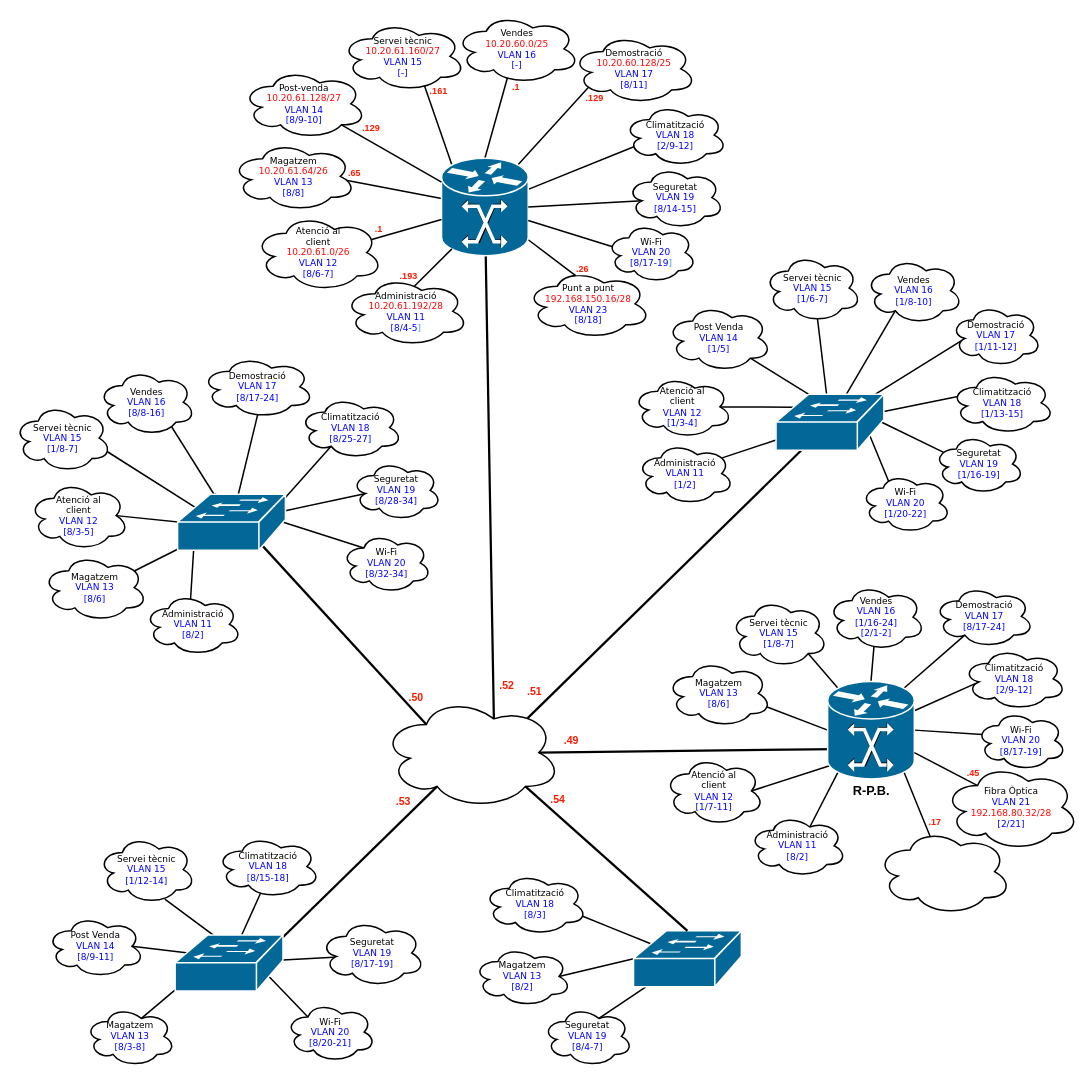
Image size: 1092x1080. Some labels were removed from this diagram. Each missing label, with the centre of its shape:
GESTIÓ VLAN 10 192.168.50.48/27: the point at 471,752
Internet VLAN 22 192.168.120.21/29 [2/20]: the point at 943,871
R-C.A.: the point at 687,958
R-P1: the point at 231,522
R-P2: the point at 829,422
R-P3: the point at 484,206
R-SOT.: the point at 228,962
